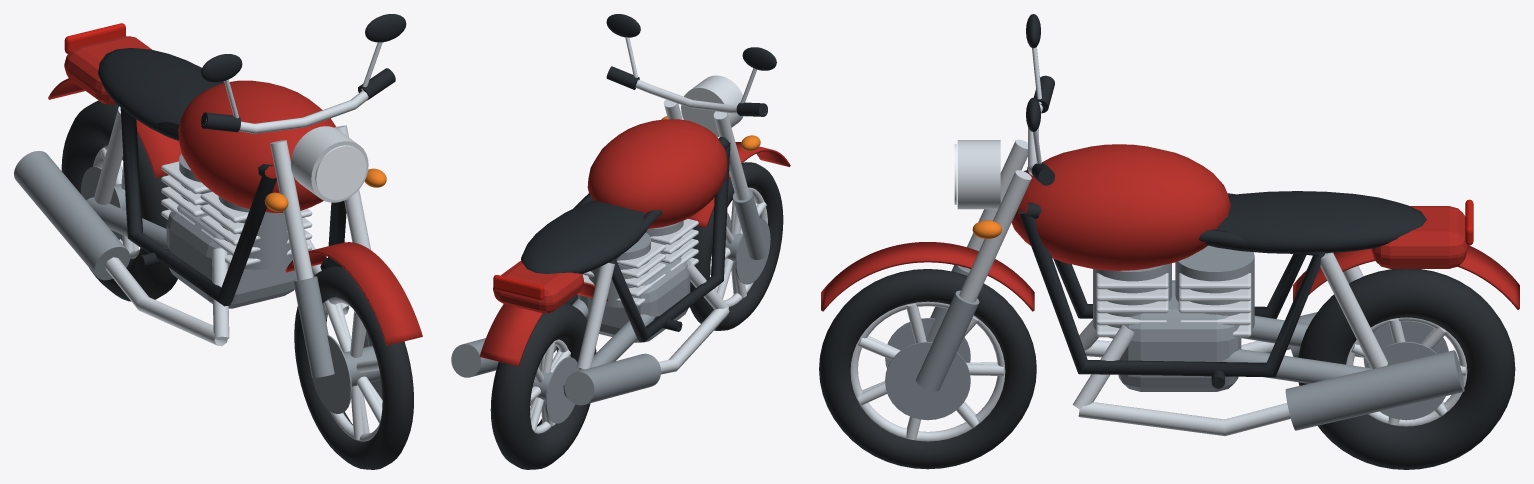
File: road-motorcycle.glb
3 views of the same model, side by side, from view 1: azimuth 30°, elevation 25°; view 2: azimuth 150°, elevation 25°; view 3: azimuth 270°, elevation 25° (orthographic). The views are drawn at different scales.
Parts seen in each view (by area): view 1: Fuel tank, Front tire, Seat, Rear tire, Frame rail, Muffler, Front mudguard, Crankcase, Fork slider, Fork stanchion, Headlight shell, Exhaust pipe (+28 smaller); view 2: Fuel tank, Rear tire, Seat, Front tire, Frame rail, Muffler, Crankcase, Rear mudguard, Tail fairing, Headlight shell, Rear shock, Rear brake disc (+21 smaller); view 3: Fuel tank, Rear tire, Front tire, Seat, Muffler.001, Frame rail.001, Crankcase, Front mudguard, Front brake disc.001, Tail fairing, Exhaust pipe.001, Headlight shell (+22 smaller).
Part boxes in pixels (x1,y1,x2,y2): Fuel tank: (178,80,335,212); Front tire: (294,266,413,469); Seat: (98,48,224,140); Rear tire: (61,100,177,301); Frame rail: (120,107,276,306); Muffler: (14,151,130,280); Front mudguard: (285,242,422,345); Crankcase: (166,205,296,308); Fork slider: (293,276,334,377); Fork stanchion: (270,140,313,280); Headlight shell: (291,126,368,202); Exhaust pipe: (105,257,227,346); Fuel tank: (587,119,727,228); Rear tire: (490,302,596,469); Seat: (521,200,647,273); Front tire: (690,162,783,330); Frame rail: (609,137,730,342); Muffler: (564,353,660,405); Crankcase: (578,257,690,342); Rear mudguard: (479,282,607,366); Tail fairing: (493,260,583,313); Headlight shell: (681,75,743,137); Rear shock: (577,262,614,369); Rear brake disc: (545,357,579,423); Fuel tank: (1011,144,1230,270); Rear tire: (1298,269,1515,469); Front tire: (819,269,1036,469); Seat: (1205,191,1426,253); Muffler.001: (1285,350,1464,430); Frame rail.001: (1019,202,1325,377); Crankcase: (1118,280,1241,391); Front mudguard: (821,242,1034,311); Front brake disc.001: (885,341,970,420); Tail fairing: (1371,206,1467,268); Exhaust pipe.001: (1078,402,1290,435); Headlight shell: (957,140,1000,209).
Size of the model in its own units: 0.75 by 1.37 by 2.12.
